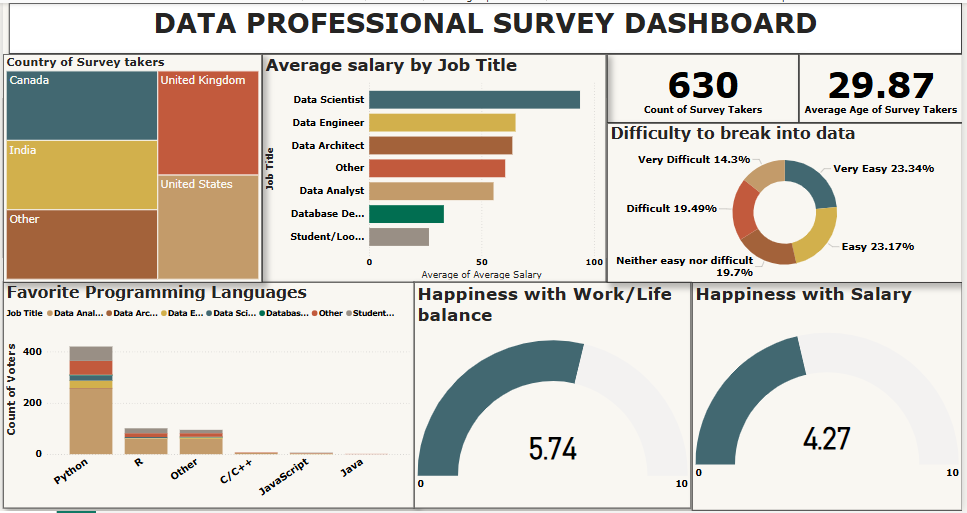

The dashboard page shown, as its layout file describes it:
{"tool":"powerbi","page":{"name":"Page 1","canvas":[1700,900],"ordinal":0},"visuals":[{"type":"textbox","box":[10.8,0,1688.4,90],"z":0},{"type":"textbox","box":[10.5,166.8,279.2,403.8],"z":1000},{"type":"card","fields":{"Values":["CountNonNull(Data Professional Survey.Unique ID)"]},"box":[1069.2,90,340.2,122.4],"z":2000},{"type":"card","fields":{"Values":["Avg(Data Professional Survey.Q10 - Current Age)"]},"box":[1409.4,90,289.8,122.4],"z":3000},{"type":"barChart","title":"Average salary by Job Title","fields":{"Category":["Data Professional Survey.Q1 - Which Title Best Fits your Current Role?.1"],"Y":["Avg(Data Professional Survey.Average Salary)"],"Series":["Data Professional Survey.Q1 - Which Title Best Fits your Current Role?.1"]},"box":[459,90,610.2,405],"z":4000},{"type":"columnChart","title":"Favorite Programming Languages","fields":{"Category":["Data Professional Survey.Q5 - Favorite Programming Language.1"],"Y":["CountNonNull(Data Professional Survey.Unique ID)"],"Series":["Data Professional Survey.Q1 - Which Title Best Fits your Current Role?.1"]},"box":[0,495,729,401.4],"z":5000},{"type":"treemap","title":"Country of Survey takers","fields":{"Group":["Data Professional Survey.Q11 - Which Country do you live in?.1"],"Values":["Count(Data Professional Survey.Q11 - Which Country do you live in?.1)"]},"box":[0,90,459,405],"z":6000},{"type":"gauge","title":"Happiness with Work/Life balance","fields":{"Y":["Avg(Data Professional Survey.Q6 - How Happy are you in your Current Position with the following? (Work/Life Balance))"],"MinValue":["Min(Data Professional Survey.Q6 - How Happy are you in your Current Position with the following? (Work/Life Balance))"],"MaxValue":["Max(Data Professional Survey.Q6 - How Happy are you in your Current Position with the following? (Work/Life Balance))1"]},"box":[729,495,491.4,401.4],"z":7000},{"type":"gauge","title":"Happiness with Salary","fields":{"Y":["Avg(Data Professional Survey.Q6 - How Happy are you in your Current Position with the following? (Salary))"],"MinValue":["Min(Data Professional Survey.Q6 - How Happy are you in your Current Position with the following? (Salary))"],"MaxValue":["Max(Data Professional Survey.Q6 - How Happy are you in your Current Position with the following? (Salary))1"]},"box":[1220.4,495,478.8,405],"z":8000},{"type":"donutChart","title":"Difficulty to break into data","fields":{"Category":["Data Professional Survey.Q7 - How difficult was it for you to break into Data?"],"Y":["Avg(Data Professional Survey.Average Salary)"]},"box":[1069.2,212.4,630,282.6],"z":9000}]}

Visuals, with their boxes in screenshot pixels (x1, y1, x2, y2), scaled from the page's 1700x900 canvas onto the 967x513 screenshot:
textbox: select_region(6, 0, 966, 51)
textbox: select_region(6, 95, 165, 325)
card - CountNonNull(Data Professional Survey.Unique ID): select_region(608, 51, 802, 121)
card - Avg(Data Professional Survey.Q10 - Current Age): select_region(802, 51, 966, 121)
"Average salary by Job Title" barChart: select_region(261, 51, 608, 282)
"Favorite Programming Languages" columnChart: select_region(0, 282, 415, 511)
"Country of Survey takers" treemap: select_region(0, 51, 261, 282)
"Happiness with Work/Life balance" gauge: select_region(415, 282, 694, 511)
"Happiness with Salary" gauge: select_region(694, 282, 966, 512)
"Difficulty to break into data" donutChart: select_region(608, 121, 966, 282)
